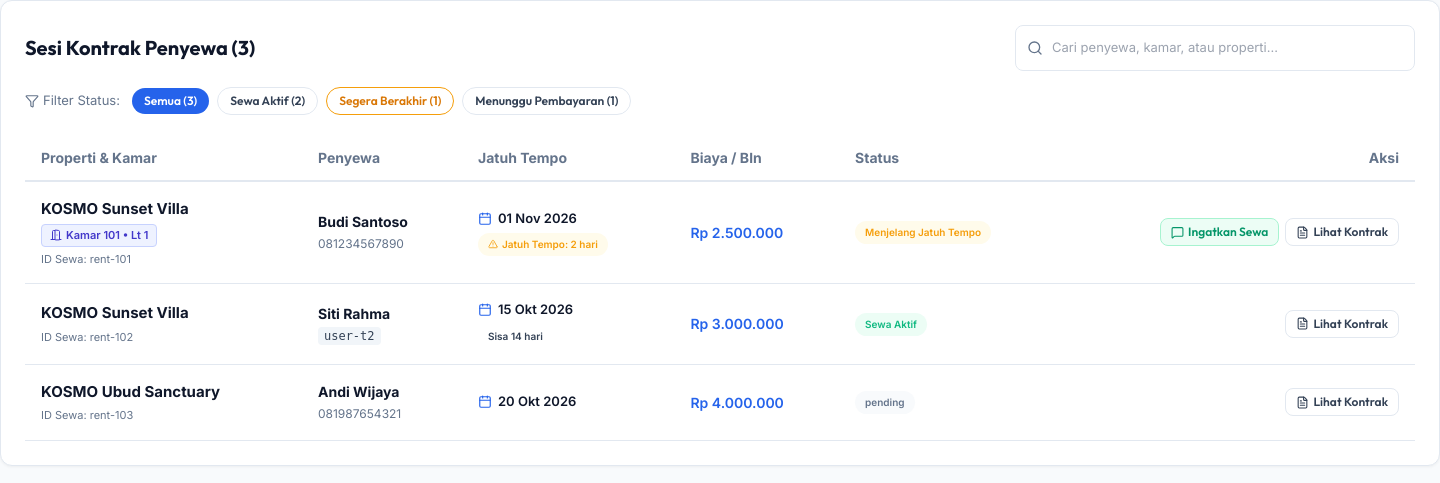
Test: TenantsTab Component Suite › searches rentals by tenant name and handles empty search results with reset
In the field with test id "tenant-search-input": (1215, 48) [1015, 25, 1415, 70], type "Ubud"
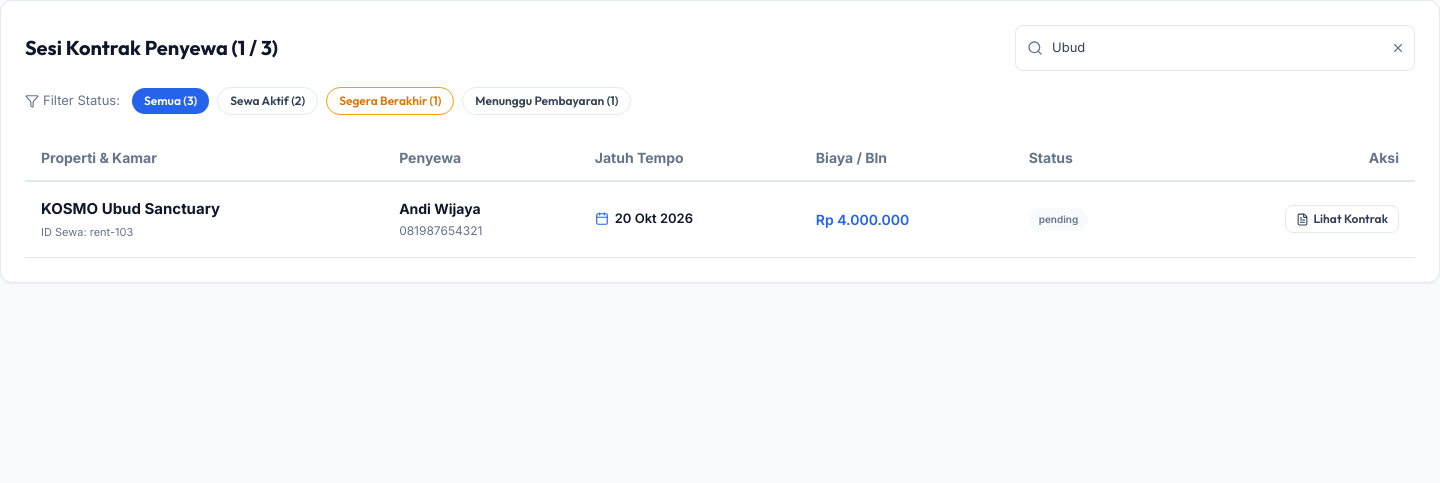
Expected: the text "Andi Wijaya" is shown, [399, 200, 481, 217]
Now the text "Budi Santoso" is gone
// Non-existent search
Replace the text in the field with test id "tenant-search-input" with "NonExistent": (1215, 48) [1015, 25, 1415, 70]
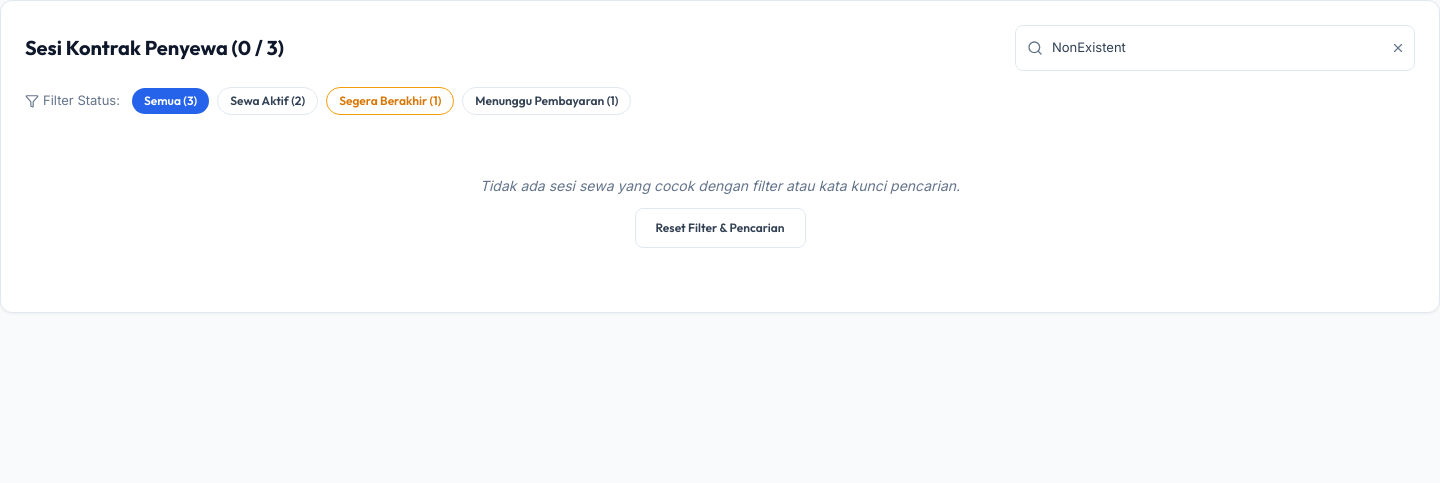
Now the element with test id "tenants-empty-state" is shown, box [480, 176, 960, 248]
// Reset via button
Click the button "Reset Filter & Pencarian": (720, 228) [634, 208, 806, 248]
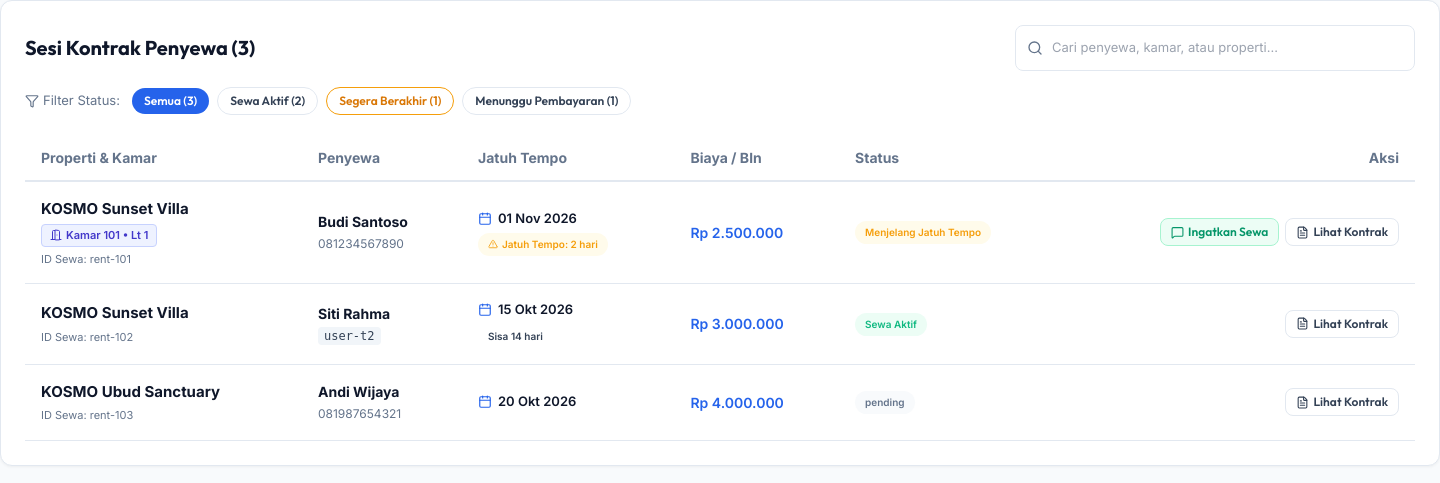
Now the text "Budi Santoso" is shown, box [318, 213, 408, 230]
